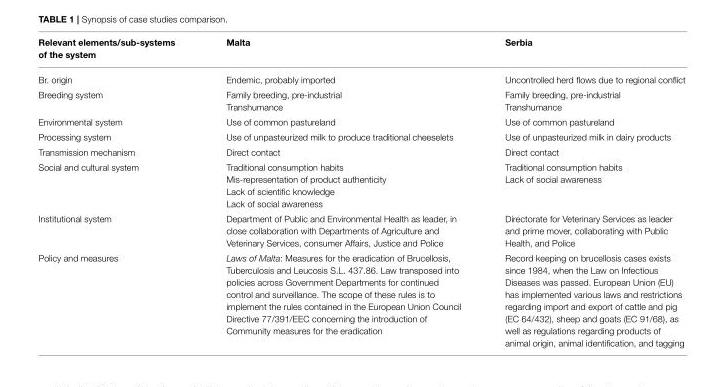table: (37, 37, 684, 347)
table column: (199, 37, 482, 347), (482, 37, 684, 347), (37, 37, 199, 347)
table column header: (37, 37, 684, 67)
table row: (37, 250, 684, 347), (37, 159, 684, 211), (37, 211, 684, 250), (37, 37, 684, 67), (37, 87, 684, 114), (37, 67, 684, 87), (37, 114, 684, 129), (37, 129, 684, 144), (37, 144, 684, 159)
